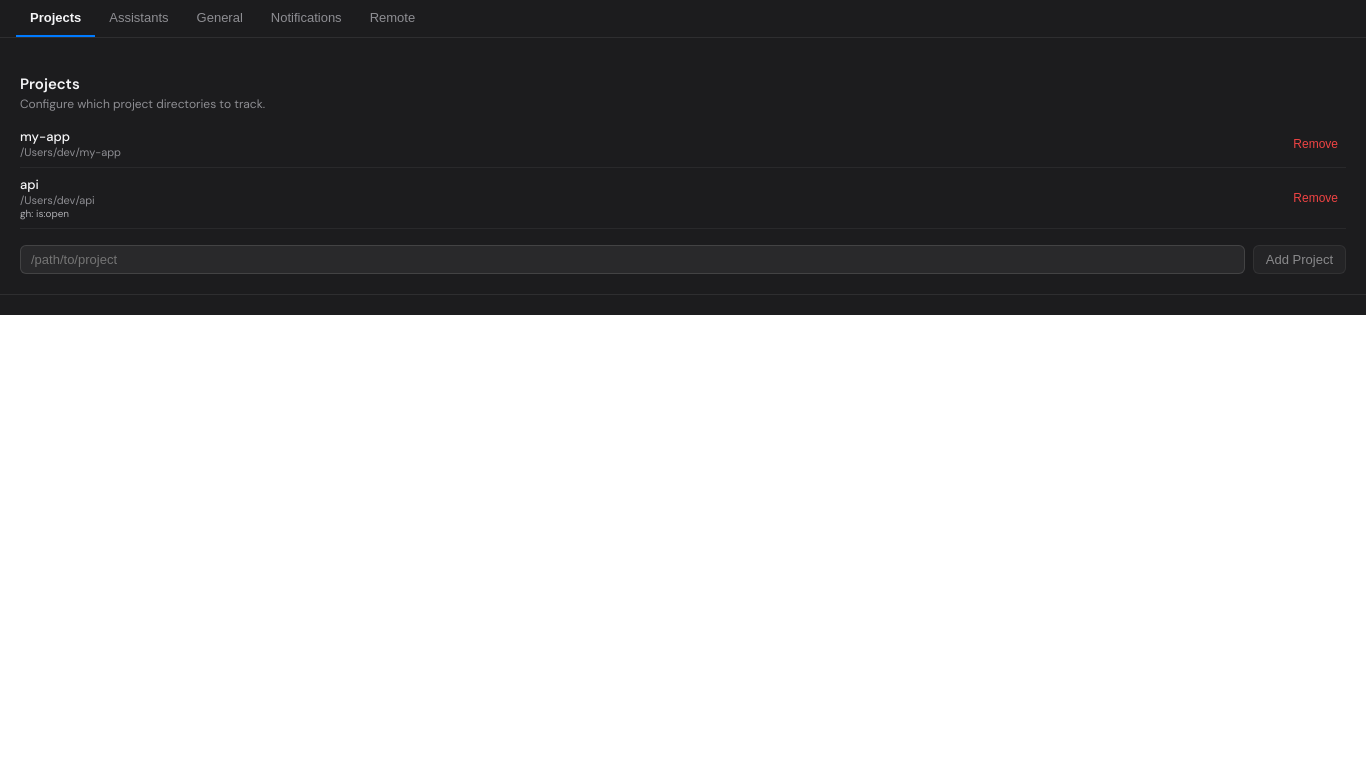
Test: SettingsView › Tab navigation › switches to General tab on click
What coordinates should you click on to do the following:
click the button with test id "settings-tab-general"
I would click on:
 (220, 18)
Its box is 183,0 -> 257,37.
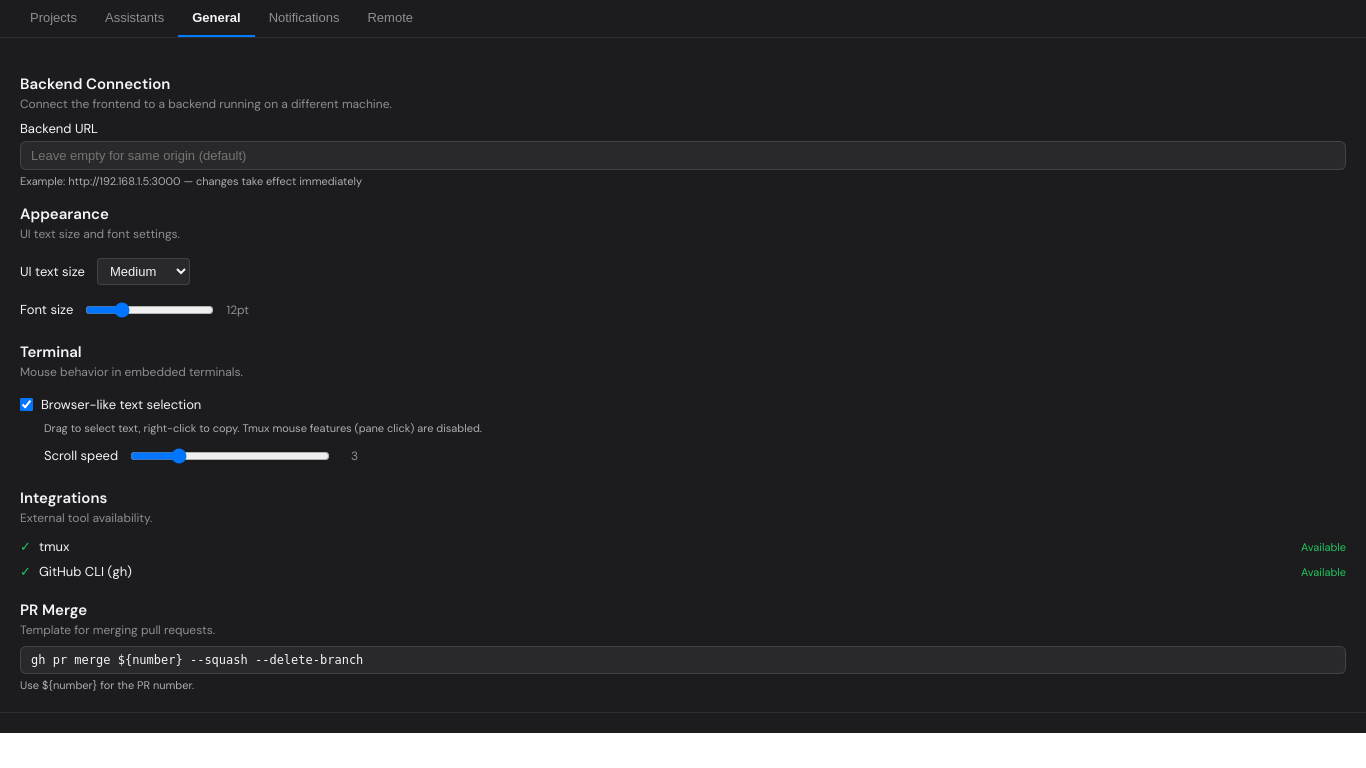
Expected: the element with test id "settings-general" is shown
